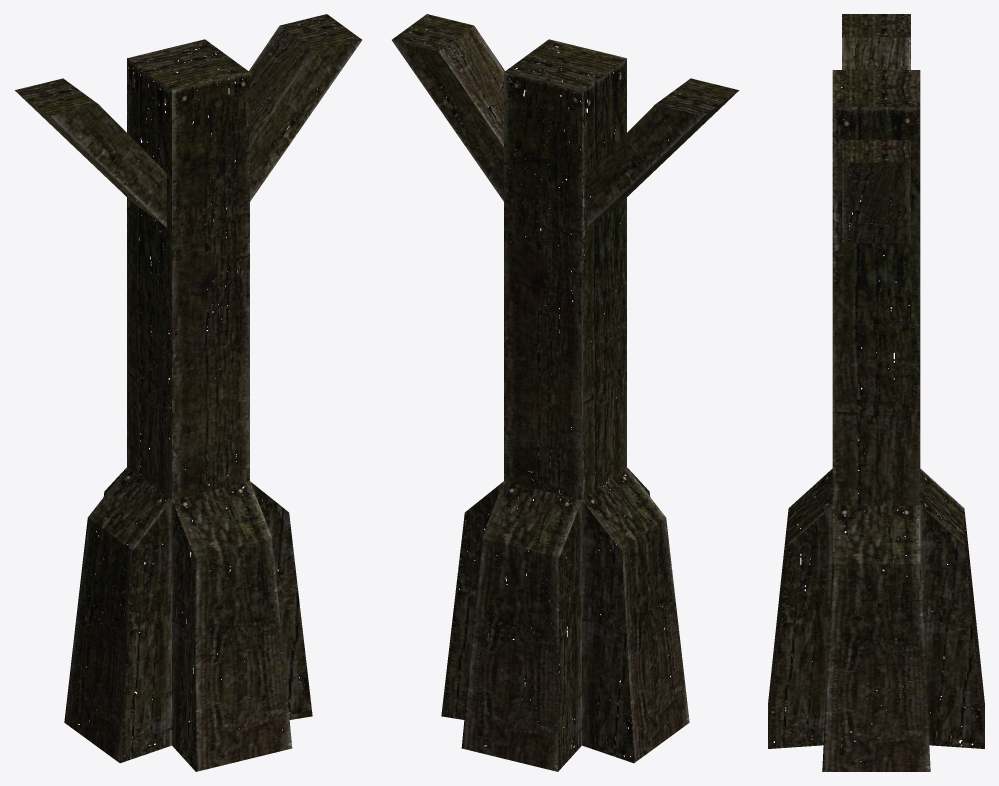
The model's file is wood_short.dae.
3 views of the same model, side by side, from view 1: azimuth 30°, elevation 25°; view 2: azimuth 150°, elevation 25°; view 3: azimuth 270°, elevation 25° (orthographic). The views are drawn at different scales.
Parts seen in each view (by area): view 1: pCube007; view 2: pCube007; view 3: pCube007.
Part boxes in pixels (left/top/right/bottom): pCube007: left=15, top=14, right=361, bottom=771; pCube007: left=392, top=14, right=738, bottom=771; pCube007: left=768, top=14, right=984, bottom=771.
Size of the model in its own units: 2 by 4 by 1.23.
